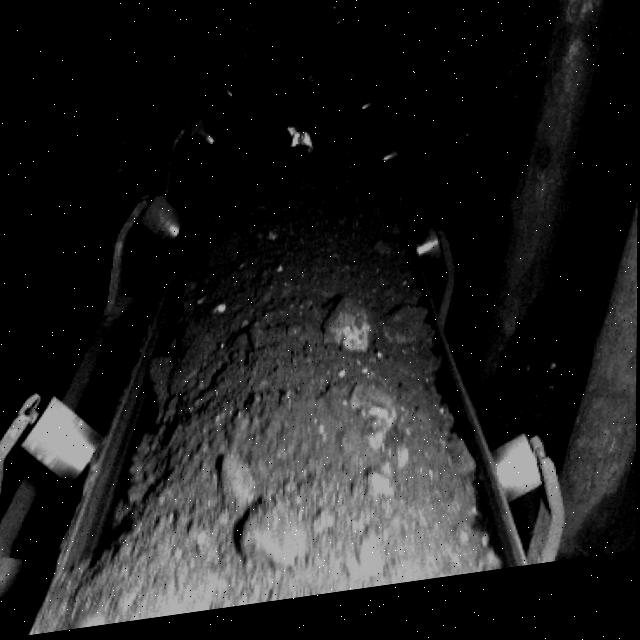Other_garbage: (277, 130, 318, 169)
large_sized_coal: (234, 509, 303, 581), (343, 388, 401, 457), (324, 306, 375, 366)
